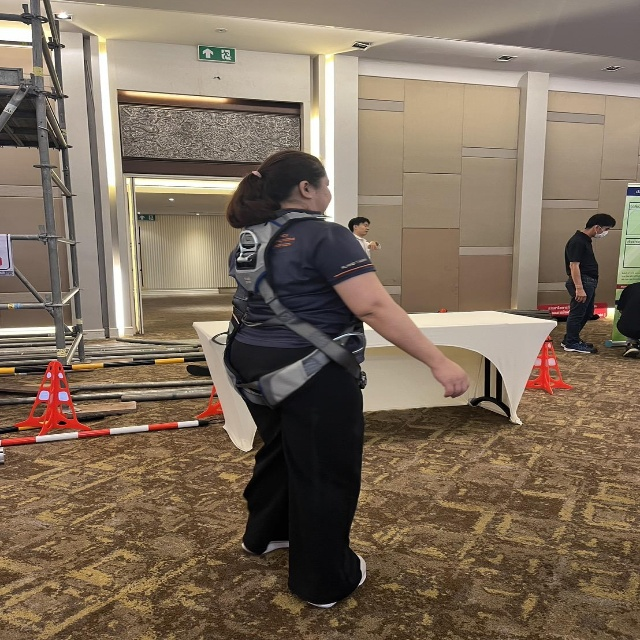Arnes_seguridad: (208, 202, 379, 416)
